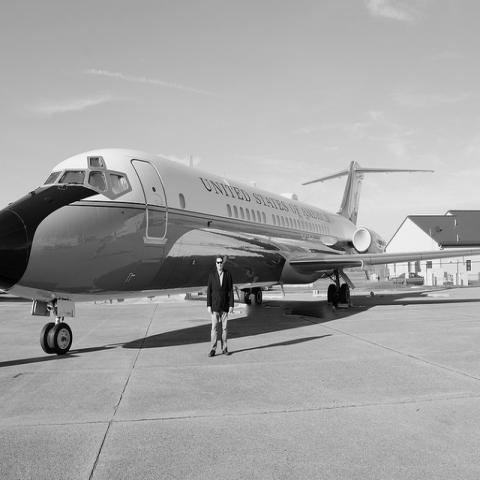car: (393, 272, 424, 284)
